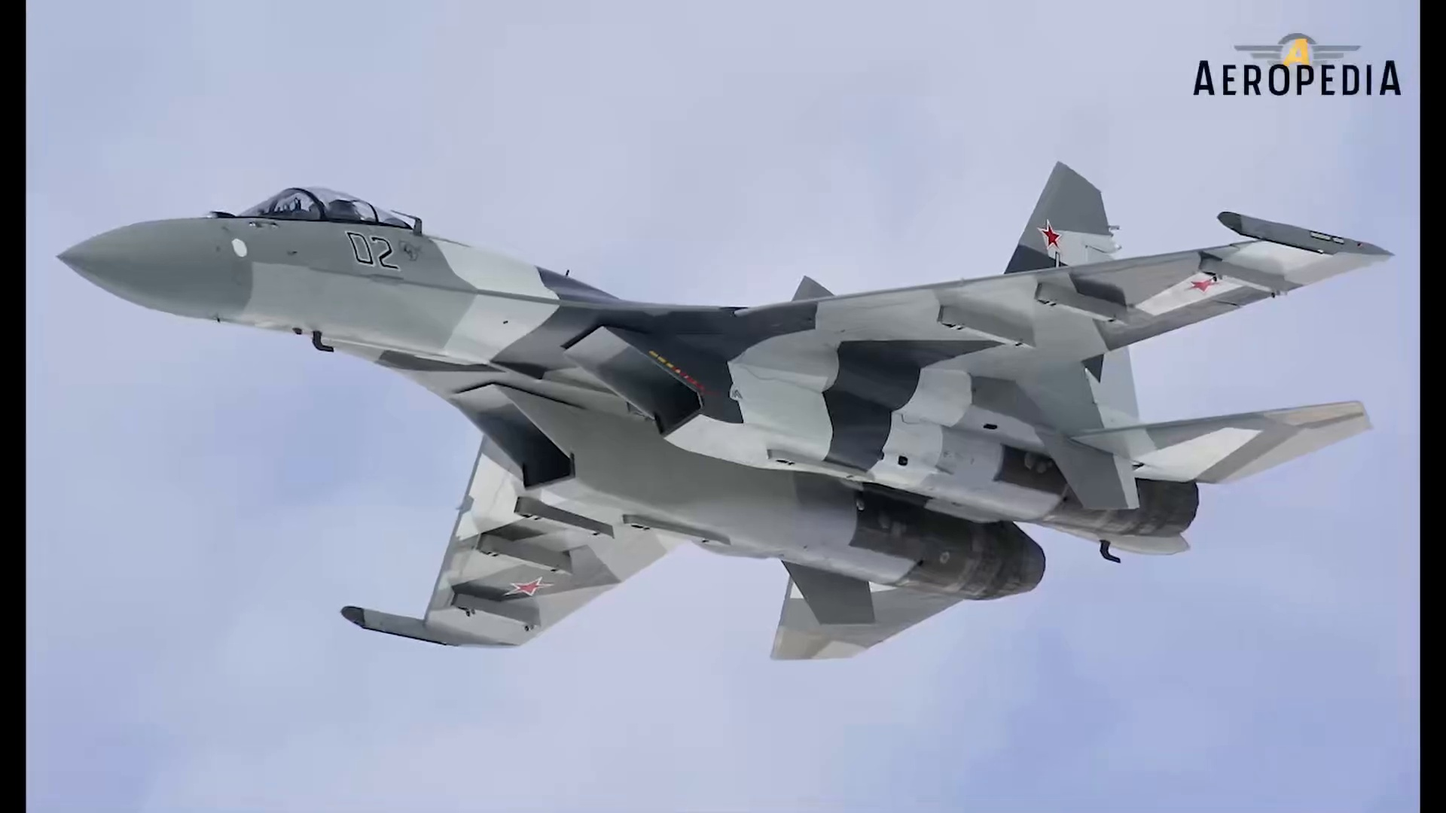Su35: (55, 161, 1395, 663)
